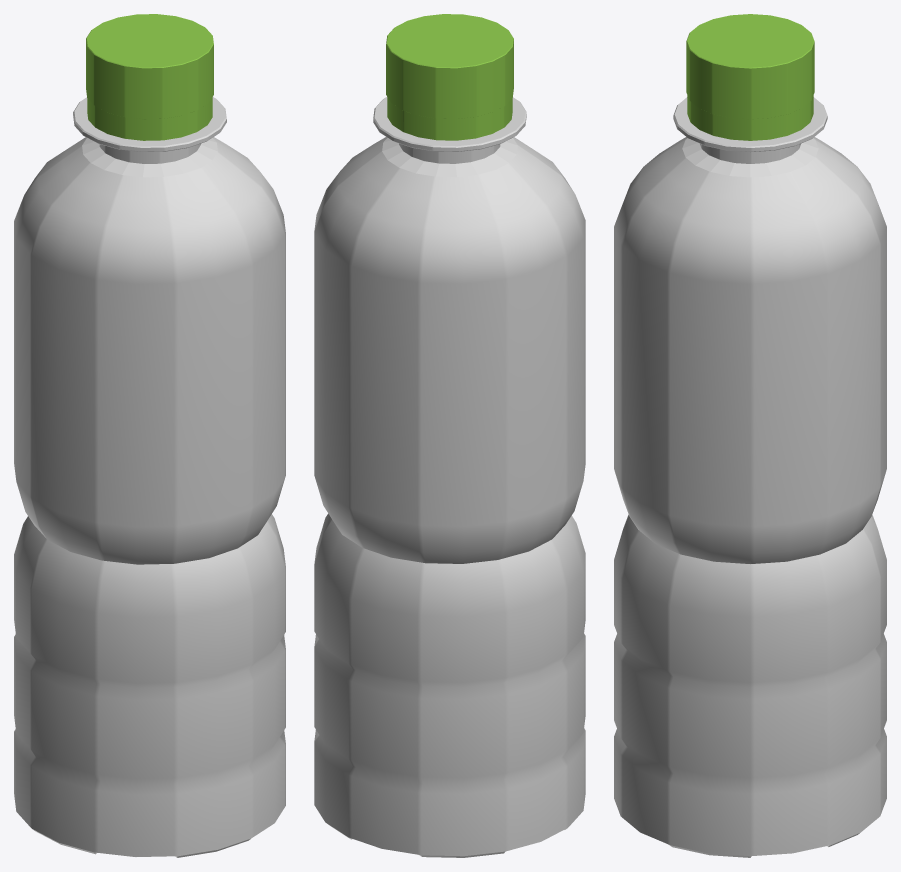
The model's file is PETbottle.fbx.
3 renders of one model, left to right at view 1: azimuth 30°, elevation 25°; view 2: azimuth 150°, elevation 25°; view 3: azimuth 270°, elevation 25°, orthographic.
Parts seen in each view (by area): view 1: pCylinder4; view 2: pCylinder4; view 3: pCylinder4.
Boxes of the visible parts, x1=… form: pCylinder4: x1=14, y1=14, x2=285, y2=857; pCylinder4: x1=314, y1=14, x2=585, y2=857; pCylinder4: x1=614, y1=14, x2=886, y2=857.
Size of the model in its own units: 1.2 by 3.69 by 1.2.
